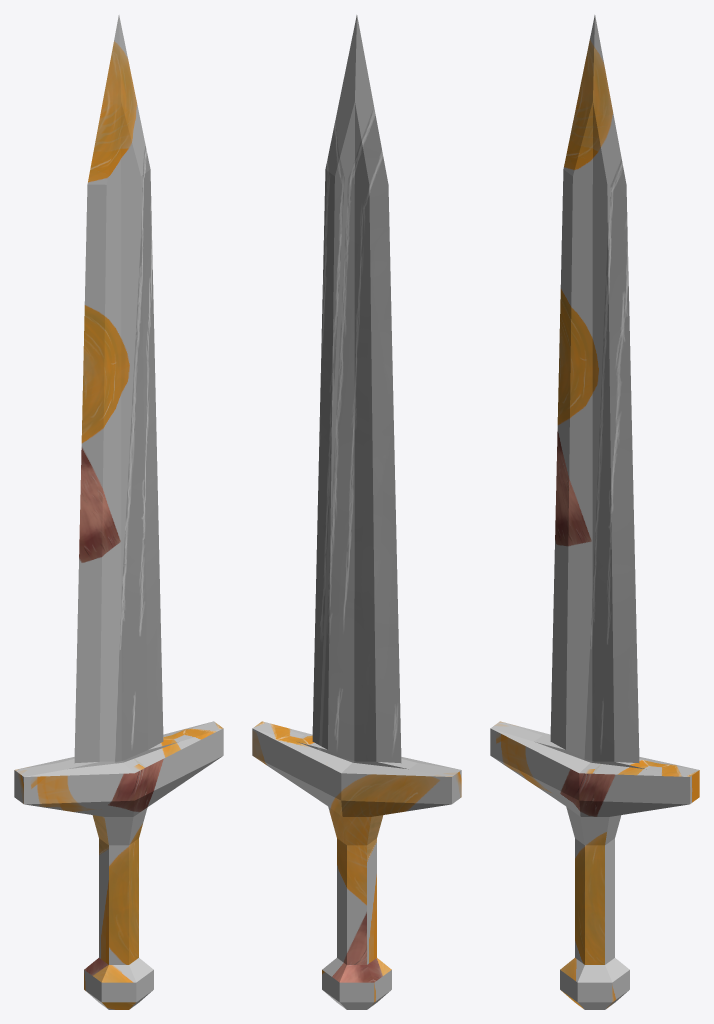
The model's file is Sword3.fbx.
3 renders of one model, left to right at view 1: azimuth 30°, elevation 25°; view 2: azimuth 150°, elevation 25°; view 3: azimuth 330°, elevation 25°, orthographic.
Visible parts, largest first — view 1: Cube; view 2: Cube; view 3: Cube.
Boxes of the visible parts, left/top/right/bottom form: Cube: left=14, top=15, right=223, bottom=1009; Cube: left=252, top=15, right=461, bottom=1009; Cube: left=490, top=15, right=699, bottom=1009.
Bounding box in the file's own units: 25.18 × 119 × 7.63.
